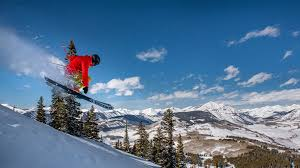snowboard: (44, 76, 116, 112)
